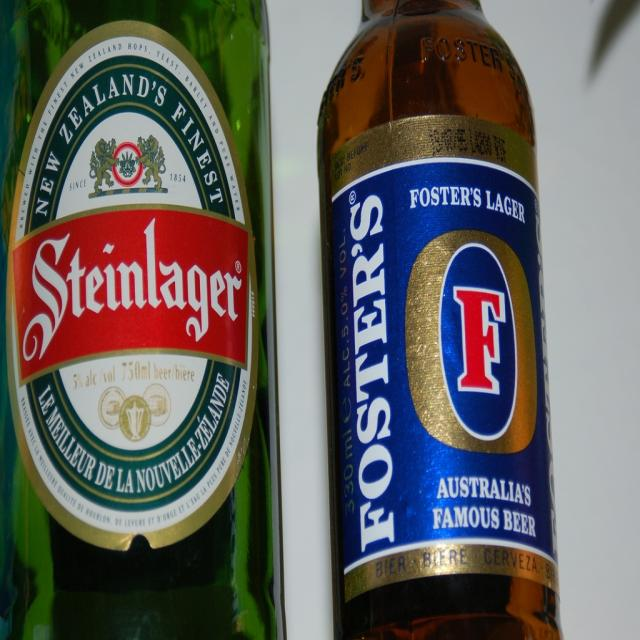fosters: (402, 224, 542, 461)
